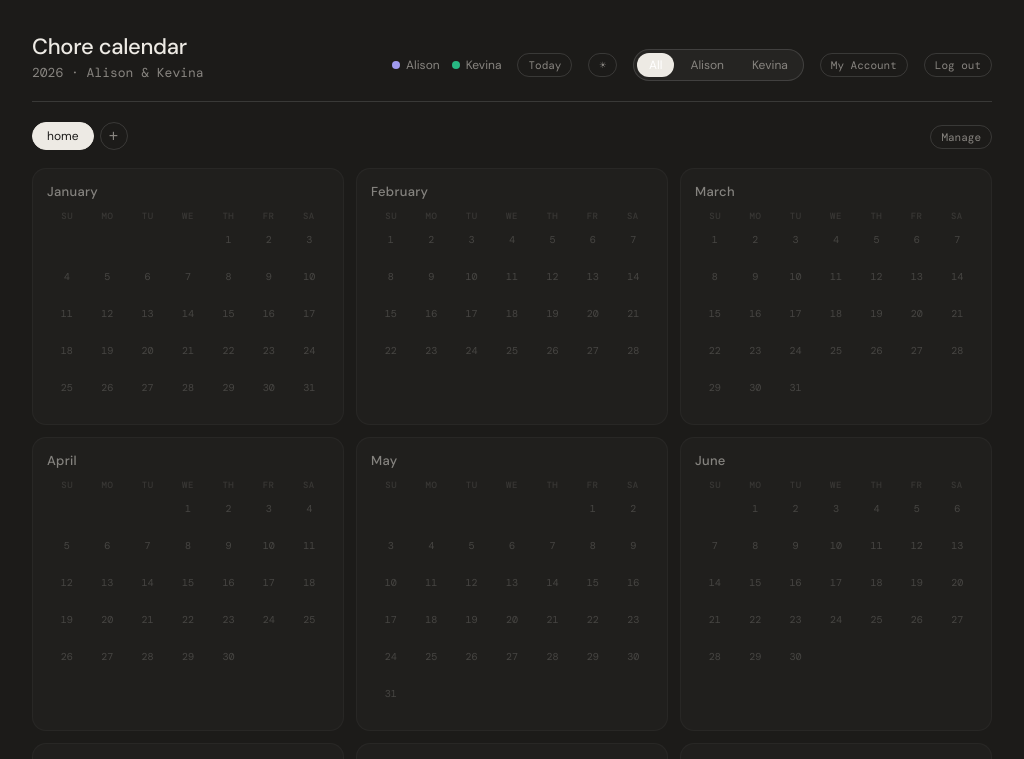
Test: App › filter count label clears person name when switching back to All
Expected: the text "January" is shown, [47, 183, 98, 200]
Click the button "Alison". click: (707, 65)
box: [678, 53, 736, 77]
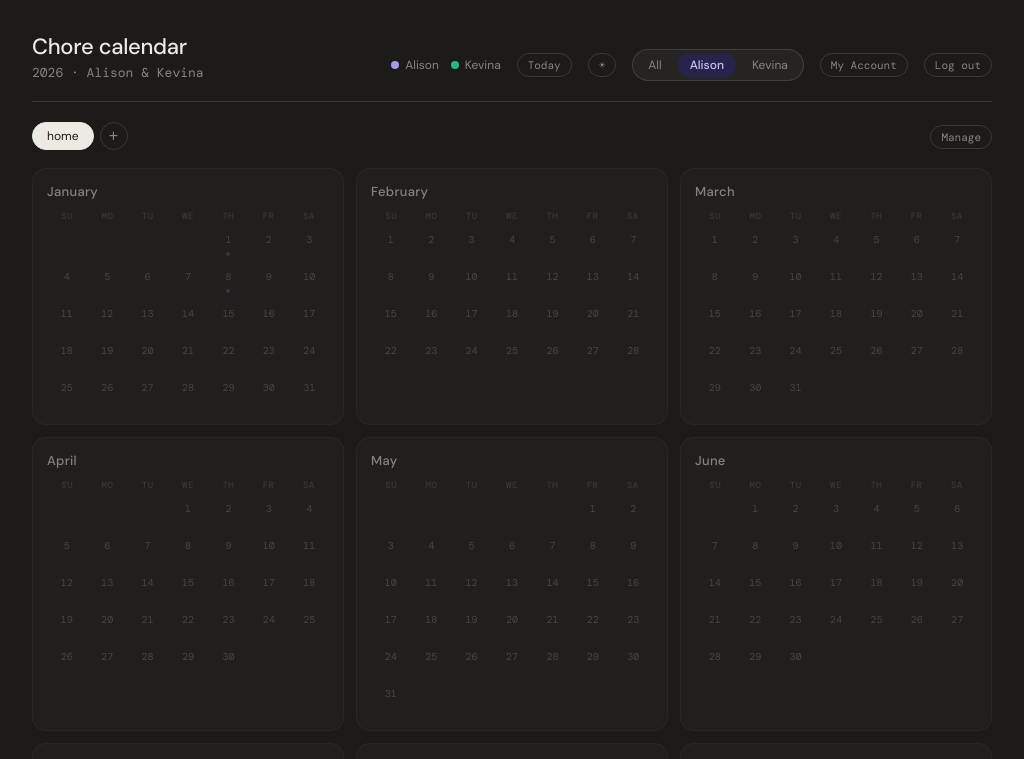
Click the button "1" below "January". click: (228, 244)
box: [225, 233, 231, 256]
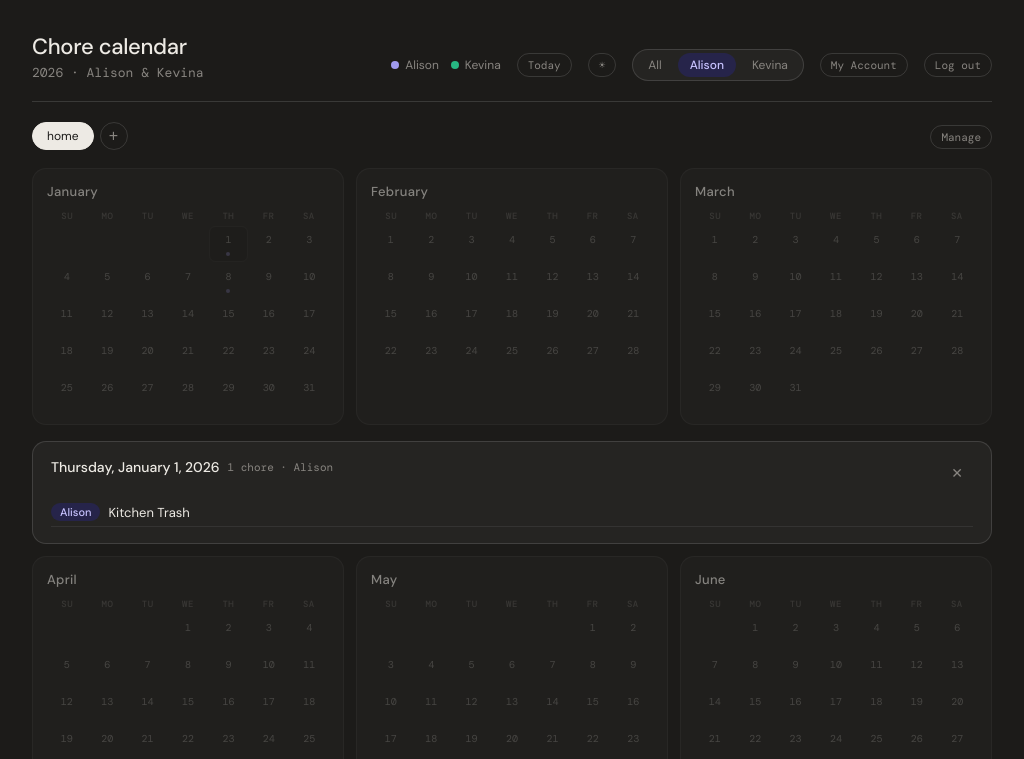
Expected: the text "1 chore · Alison" is shown, [228, 460, 333, 474]
Click the button "All". click: (655, 65)
box: [636, 53, 674, 77]
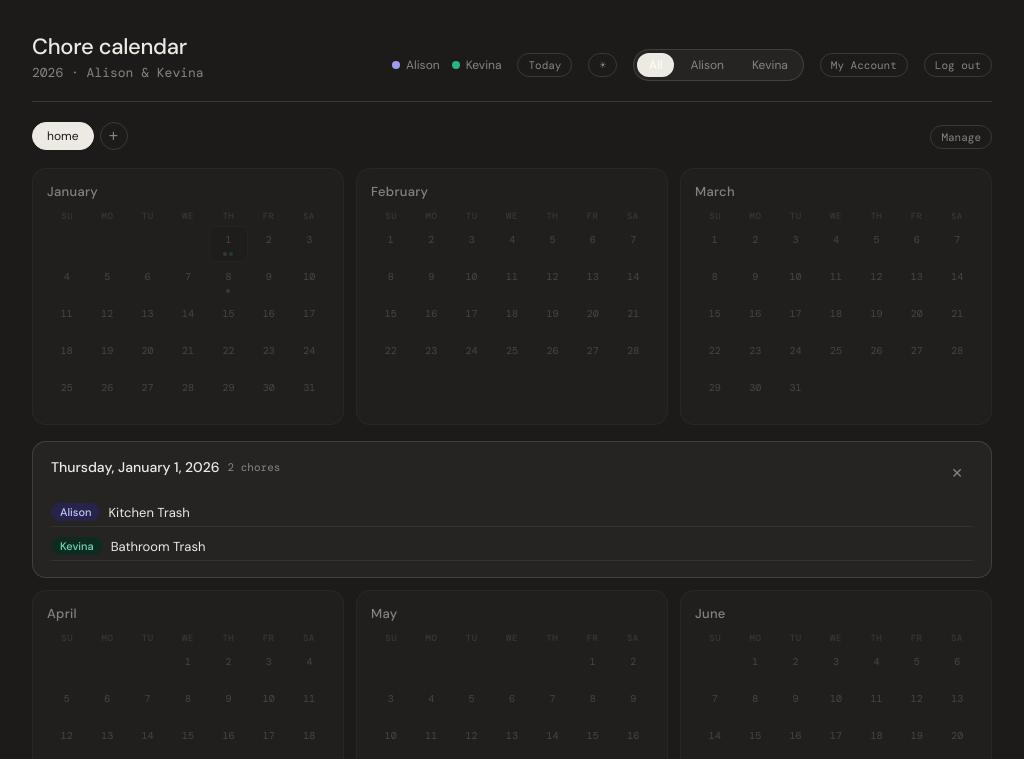
Expected: the text "chore · Alison" is gone
